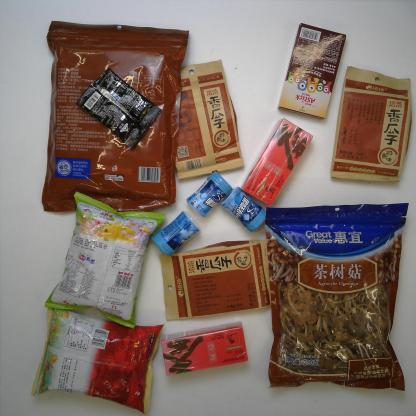Dessert: (276, 21, 349, 123)
Dried Food: (35, 15, 196, 218), (257, 198, 411, 400), (156, 235, 284, 324), (160, 57, 249, 184), (328, 63, 414, 186)
Gum: (148, 208, 203, 260), (184, 168, 236, 221), (220, 184, 273, 234)
Instant Drink: (75, 65, 163, 151), (240, 115, 316, 209), (160, 320, 250, 378)
Puffed Food: (41, 188, 169, 332), (26, 301, 168, 416)
